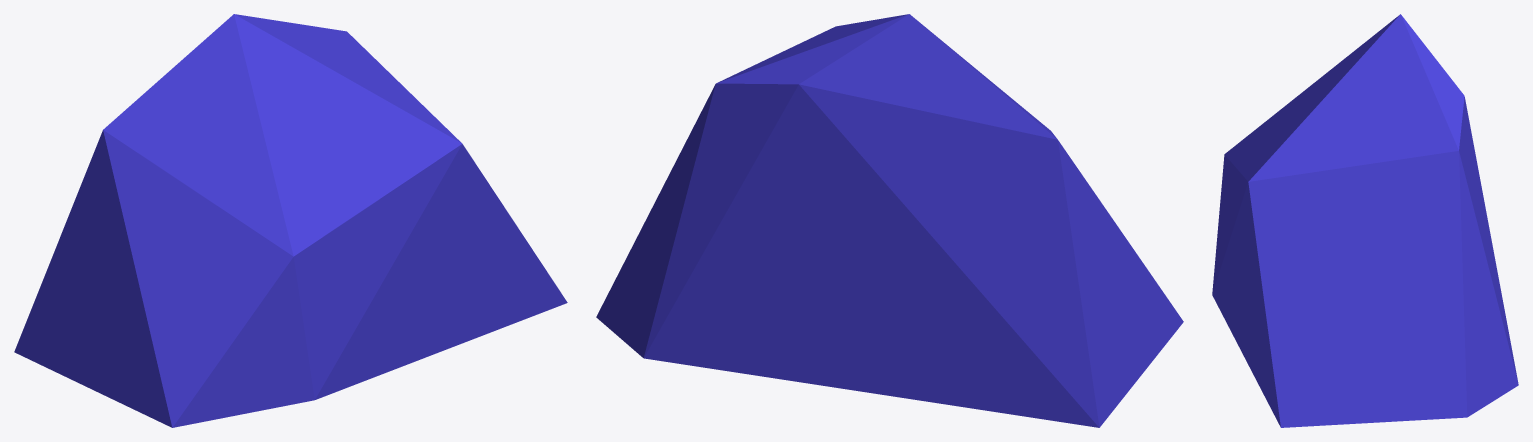
Rendered from Boulder_01_Collider_01.FBX.
The picture shows the model from 3 angles, left to right: view 1: azimuth 30°, elevation 25°; view 2: azimuth 150°, elevation 25°; view 3: azimuth 270°, elevation 25°; orthographic projection. The views are drawn at different scales.
Parts seen in each view (by area): view 1: COLLIDER1; view 2: COLLIDER1; view 3: COLLIDER1.
Boxes of the visible parts, box(x1,y1,x2,y2) form: COLLIDER1: box(14, 14, 567, 427); COLLIDER1: box(596, 14, 1183, 427); COLLIDER1: box(1212, 14, 1518, 427).
Bounding box in the file's own units: 94.77 × 59.92 × 57.41.
